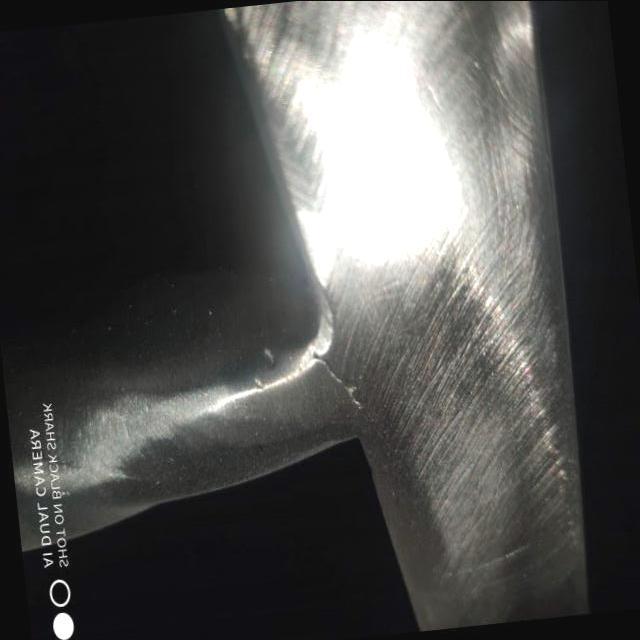defect: (307, 344, 370, 415)
